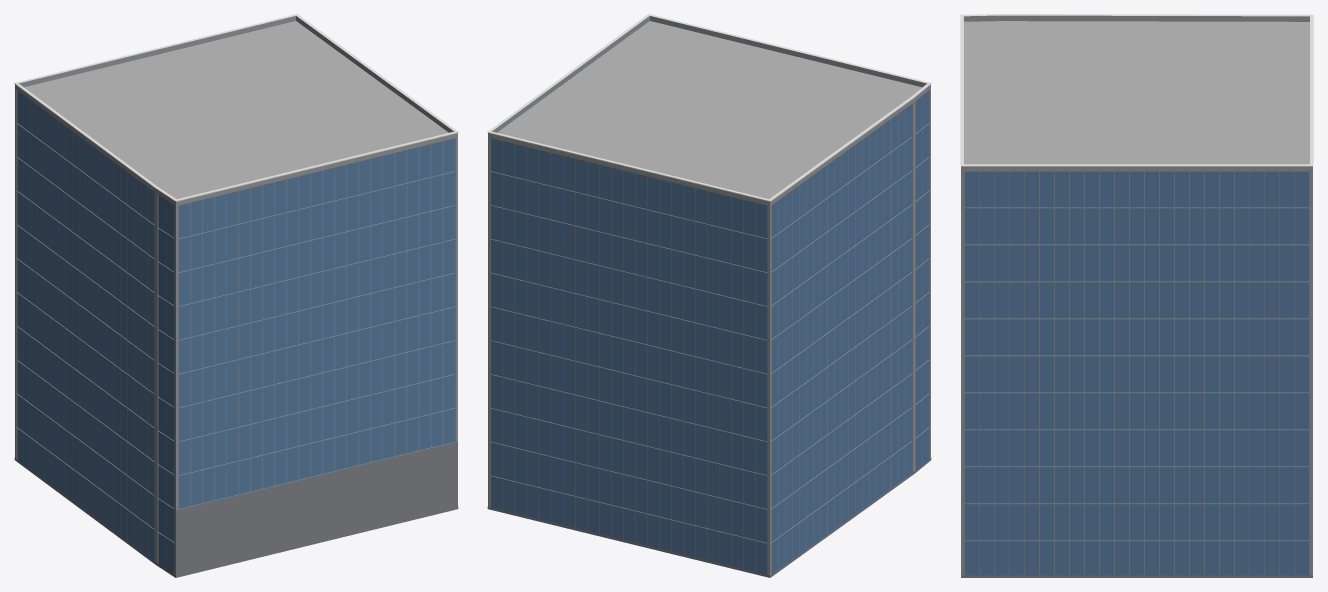
3 views of the same model, side by side, from view 1: azimuth 30°, elevation 25°; view 2: azimuth 150°, elevation 25°; view 3: azimuth 270°, elevation 25° (orthographic). The views are drawn at different scales.
Visible parts, largest first — view 1: jeongHasang__glass, jeongHasang__roof, jeongHasang__base, jeongHasang__frame, jeongHasang__wall, jeongHasang__parapet, jeongHasang__trim; view 2: jeongHasang__glass, jeongHasang__roof, jeongHasang__frame, jeongHasang__wall, jeongHasang__parapet, jeongHasang__trim, jeongHasang__base; view 3: jeongHasang__glass, jeongHasang__roof, jeongHasang__frame, jeongHasang__wall, jeongHasang__parapet, jeongHasang__trim, jeongHasang__base.
Part boxes in pixels (x1,y1,x2,y2): jeongHasang__glass: (17, 90, 454, 573); jeongHasang__roof: (24, 21, 448, 198); jeongHasang__base: (14, 441, 458, 577); jeongHasang__frame: (17, 95, 454, 568); jeongHasang__wall: (15, 88, 457, 577); jeongHasang__parapet: (15, 16, 457, 205); jeongHasang__trim: (14, 14, 458, 201); jeongHasang__glass: (491, 90, 928, 574); jeongHasang__roof: (497, 21, 922, 198); jeongHasang__frame: (491, 96, 928, 571); jeongHasang__wall: (488, 88, 930, 577); jeongHasang__parapet: (488, 16, 930, 205); jeongHasang__trim: (487, 14, 931, 201); jeongHasang__base: (487, 457, 931, 577); jeongHasang__glass: (964, 171, 1309, 575); jeongHasang__roof: (964, 21, 1309, 164); jeongHasang__frame: (964, 171, 1309, 575); jeongHasang__wall: (961, 171, 1312, 575); jeongHasang__parapet: (961, 15, 1312, 171); jeongHasang__trim: (960, 14, 1313, 166); jeongHasang__base: (961, 575, 1312, 577).
Bounding box in the file's own units: 35.25 × 44.6 × 34.63.
